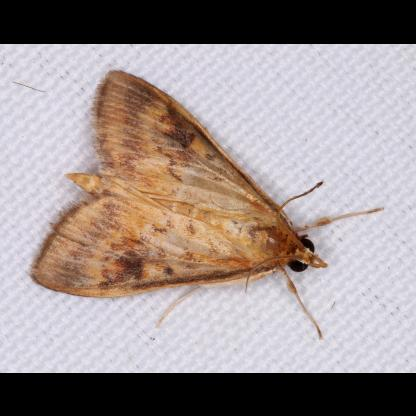Asian Corn Borer Moth: (28, 65, 388, 341)
